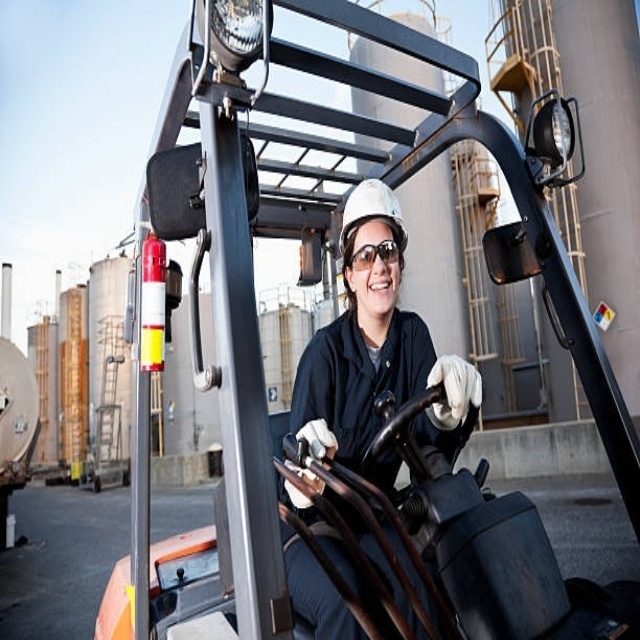Gafas: (349, 240, 400, 269)
Guantes: (283, 414, 339, 516), (428, 347, 489, 433)
Sin_mascara: (361, 275, 395, 307)
